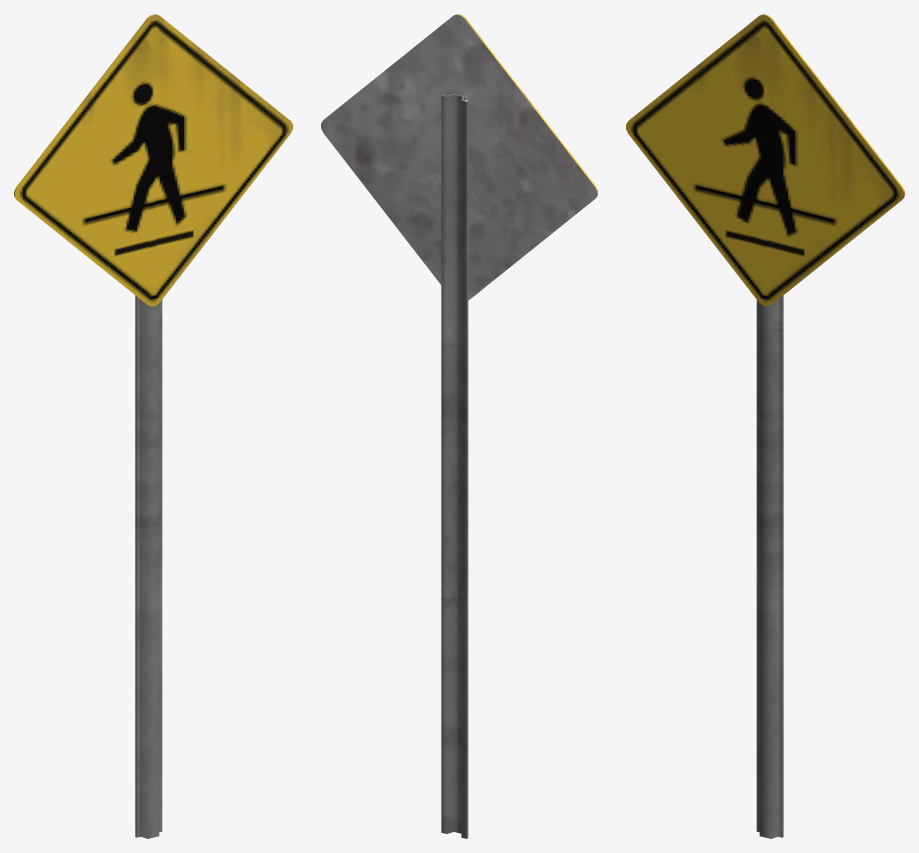
File: Sign_Crosswalk.fbx
3 views of the same model, side by side, from view 1: azimuth 30°, elevation 25°; view 2: azimuth 150°, elevation 25°; view 3: azimuth 330°, elevation 25° (orthographic).
Parts seen in each view (by area): view 1: Sign_Crosswalk; view 2: Sign_Crosswalk; view 3: Sign_Crosswalk.
Part boxes in pixels (bbox=[...]): Sign_Crosswalk: bbox=[14, 14, 292, 838]; Sign_Crosswalk: bbox=[321, 14, 597, 838]; Sign_Crosswalk: bbox=[626, 14, 904, 838].
Bounding box in the file's own units: 90.9 × 257 × 3.33.
